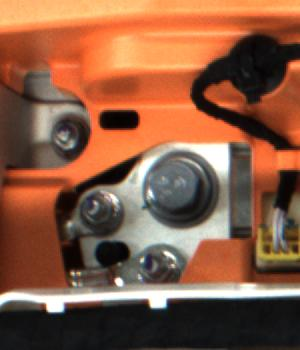nut_b: (143, 138, 222, 237)
screw_s: (80, 193, 120, 227), (44, 121, 83, 155), (138, 250, 177, 283)
